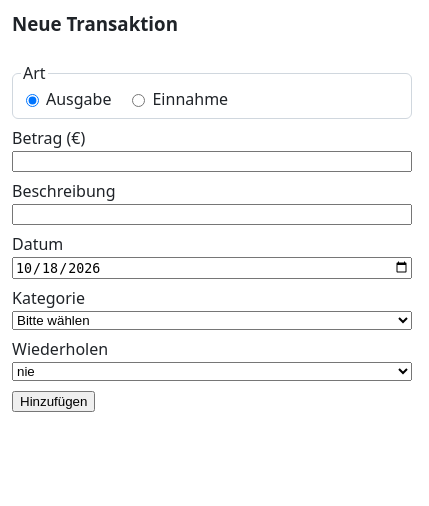
TransactionForm › shows a server error on startDate at the date field
The width and height of the screenshot is (429, 506).
Type "240" into the field labelled "Betrag (€)".
click(212, 162); type("240")  # box 12,151 -> 412,172
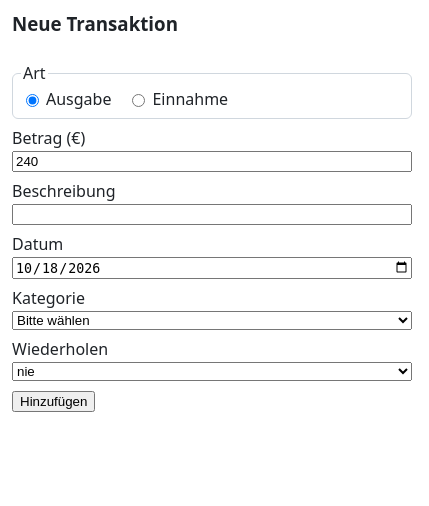
Type "Haftpflicht" into the field labelled "Beschreibung".
click(212, 215); type("Haftpflicht")  # box 12,204 -> 412,225
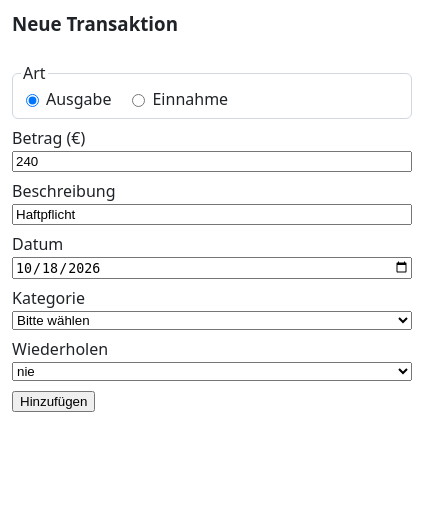
Select "Wohnen" in the dropdown labelled "Kategorie" at (212, 320), box 12,311 -> 412,330
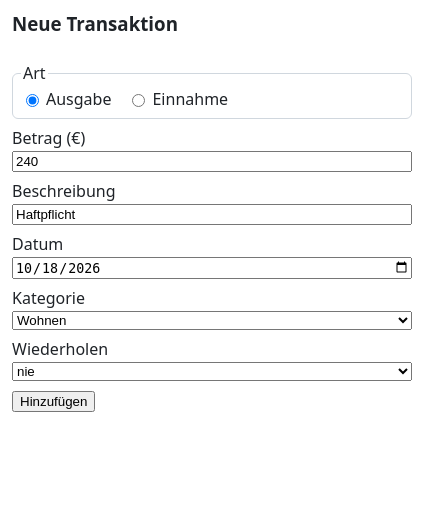
Select "monatlich" in the dropdown labelled "Wiederholen" at (212, 371), box 12,362 -> 412,381
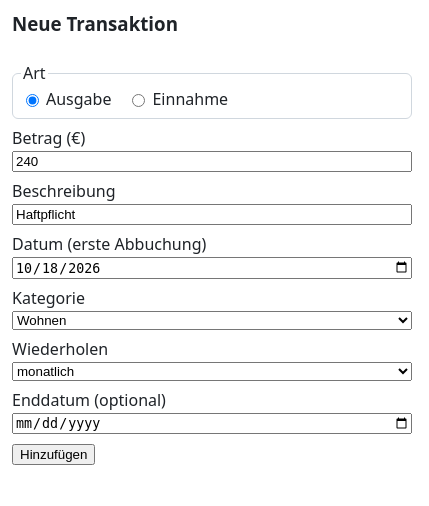
Click the button "Hinzufügen".
click(54, 455)  # box 12,444 -> 95,465
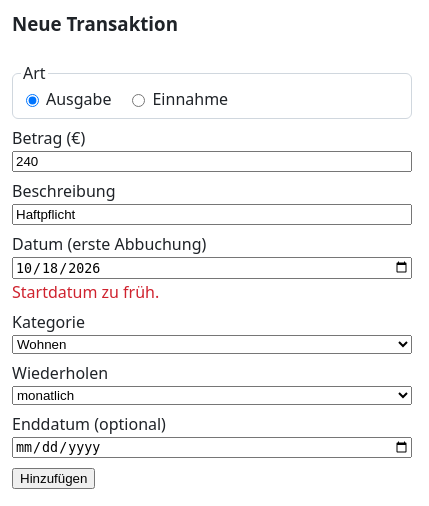
Check: the text "Startdatum zu früh." is shown, box 12,281 -> 159,303
